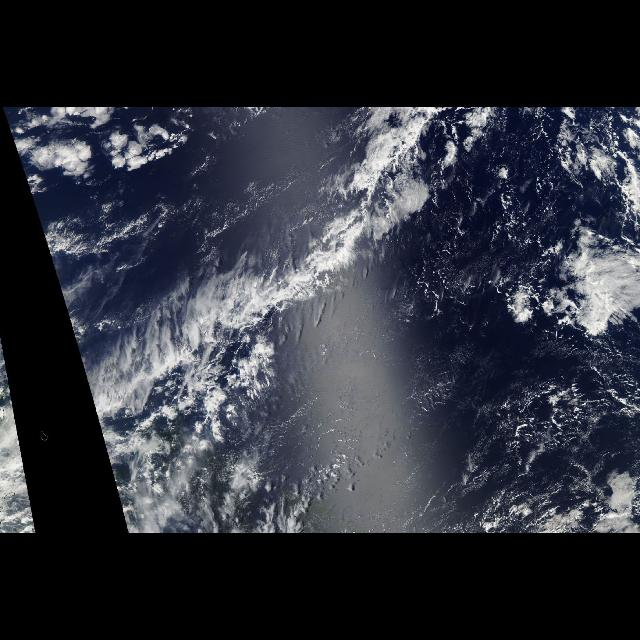Fish: (208, 234, 340, 330), (344, 120, 420, 270)
Flower: (7, 119, 245, 204)
Gravel: (414, 140, 568, 302)
